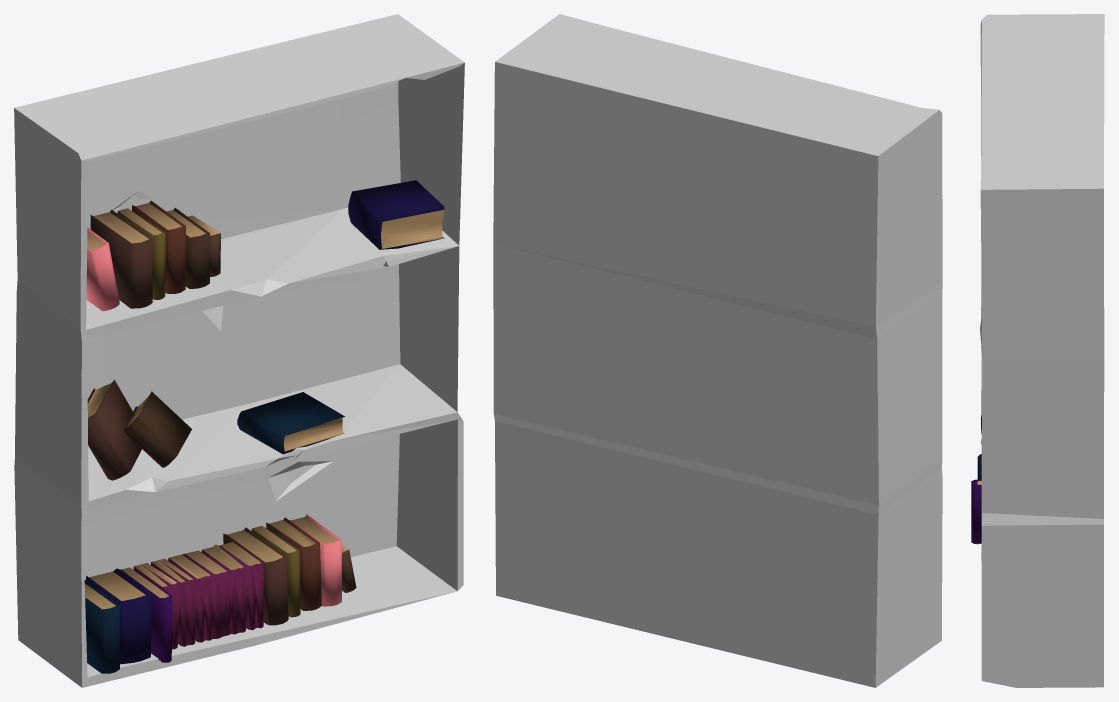
File: Bookshelf001.fbx
3 renders of one model, left to right at view 1: azimuth 30°, elevation 25°; view 2: azimuth 150°, elevation 25°; view 3: azimuth 270°, elevation 25°, orthographic. The views are drawn at different scales.
Parts seen in each view (by area): view 1: Bookshelf Variation001, Bookshelf_Contents; view 2: Bookshelf Variation001; view 3: Bookshelf Variation001, Bookshelf_Contents.
Boxes of the visible parts, x1,y1,x2,y2 form: Bookshelf Variation001: (14,14,464,687); Bookshelf_Contents: (84,180,444,673); Bookshelf Variation001: (493,14,942,687); Bookshelf Variation001: (980,14,1104,687); Bookshelf_Contents: (971,415,981,544).
Size of the model in its own units: 2.27 by 3 by 0.7256.
